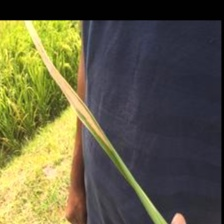Leaf_Blast: (31, 23, 111, 150)
